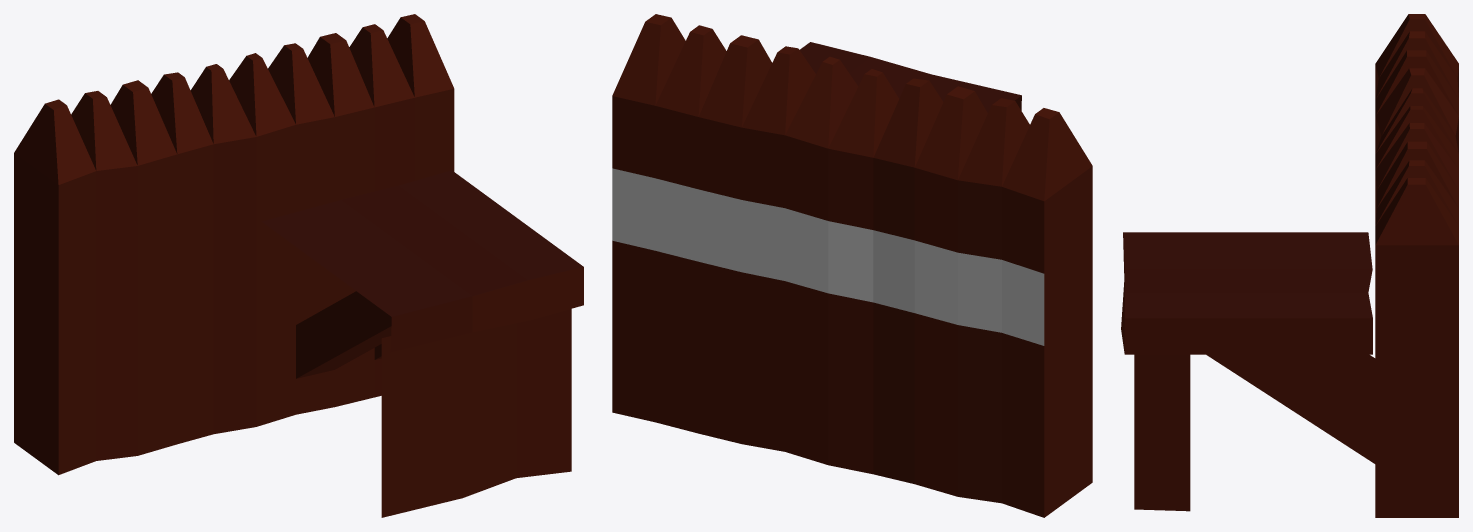
The model's file is wall_ramp_half.obj.
3 renders of one model, left to right at view 1: azimuth 30°, elevation 25°; view 2: azimuth 150°, elevation 25°; view 3: azimuth 270°, elevation 25°, orthographic. The views are drawn at different scales.
Parts seen in each view (by area): view 1: wall_ramp_half; view 2: wall_ramp_half; view 3: wall_ramp_half.
Part boxes in pixels (x1,y1,x2,y2): wall_ramp_half: (14, 14, 583, 517); wall_ramp_half: (612, 14, 1092, 517); wall_ramp_half: (1121, 14, 1458, 517).
Size of the model in its own units: 0.9768 by 0.8257 by 0.7679.
